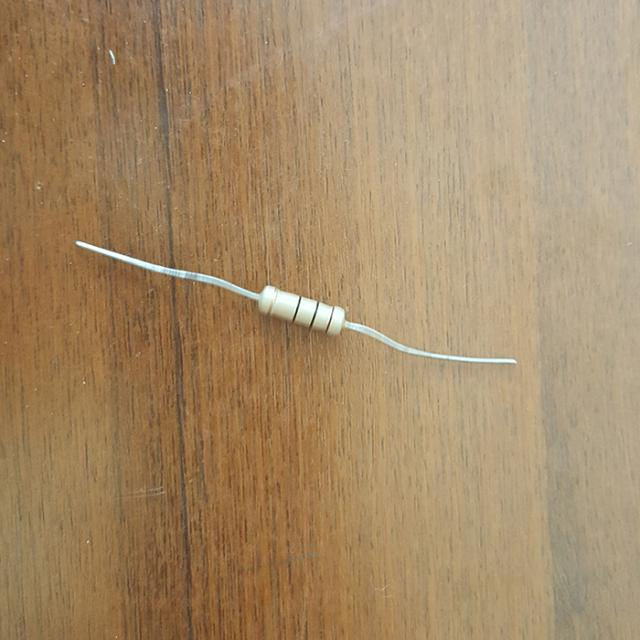black: (292, 296, 303, 322), (309, 303, 320, 328)
brown: (323, 306, 336, 332)
gold: (267, 289, 276, 315)
resistor: (243, 273, 361, 352)
